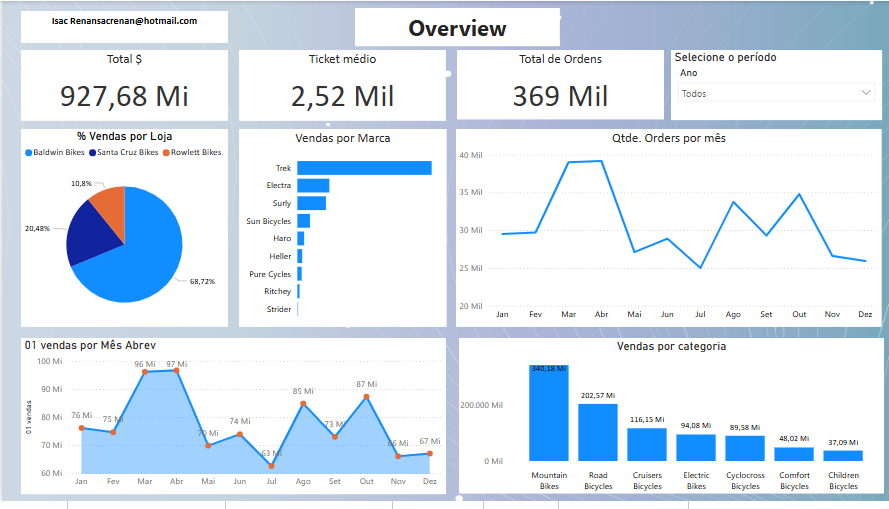

The page's visual inventory and layout, read from the dashboard file:
{"tool":"powerbi","page":{"name":"Overview/sales","canvas":[1280,720],"ordinal":0},"visuals":[{"type":"card","title":"Total $","fields":{"Values":["# Medidas.01 vendas"]},"box":[27.6,71.3,298.2,101.8],"z":0},{"type":"card","title":"Ticket médio","fields":{"Values":["# Medidas.02 ticket medio"]},"box":[341.3,71.3,298.2,101.8],"z":1000},{"type":"card","title":"Total de Ordens","fields":{"Values":["# Medidas.03 Total de Orders"]},"box":[655,71.3,298.2,100.4],"z":2000},{"type":"pieChart","title":"% Vendas por Loja","fields":{"Category":["dim_store.Name"],"Y":["# Medidas.01 vendas"]},"box":[27.4,184.3,298.1,285.1],"z":4000},{"type":"clusteredColumnChart","title":"Vendas por categoria","fields":{"Y":["# Medidas.01 vendas"],"Category":["dim_product.CategoryName"]},"box":[657.7,485.2,612,224.1],"z":5000},{"type":"clusteredBarChart","title":"Vendas por Marca","fields":{"Category":["dim_product.Brand.Name"],"Y":["# Medidas.01 vendas"]},"box":[340.6,184.3,299.4,284.6],"z":6000},{"type":"slicer","title":"Selecione o período","fields":{"Values":["dim_calendario.Ano"]},"box":[963.4,70.6,303.8,100.8],"z":7000},{"type":"textbox","box":[508.3,10.1,295.2,54.7],"z":8000},{"type":"areaChart","fields":{"Category":["dim_calendario.Mês Abrev"],"Y":["# Medidas.01 vendas"]},"box":[27.4,485.3,612,224.6],"z":9000},{"type":"textbox","box":[27.4,14.4,298.1,46.1],"z":10000},{"type":"lineChart","title":"Qtde. Orders por mês","fields":{"Category":["dim_calendario.Mês Abrev"],"Y":["# Medidas.03 Total de Orders"]},"box":[653.3,184.3,613.5,284.6],"z":11000}]}

Visuals, with their boxes in screenshot pixels (x1, y1, x2, y2), scaled from the page's 1280x720 canvas onto the 889x509 screenshot:
"Total $" card: 19 50 226 122
"Ticket médio" card: 237 50 444 122
"Total de Ordens" card: 455 50 662 121
"% Vendas por Loja" pieChart: 19 130 226 332
"Vendas por categoria" clusteredColumnChart: 457 343 882 501
"Vendas por Marca" clusteredBarChart: 237 130 444 331
"Selecione o período" slicer: 669 50 880 121
textbox: 353 7 558 46
areaChart - dim_calendario.Mês Abrev x # Medidas.01 vendas: 19 343 444 502
textbox: 19 10 226 43
"Qtde. Orders por mês" lineChart: 454 130 880 331
